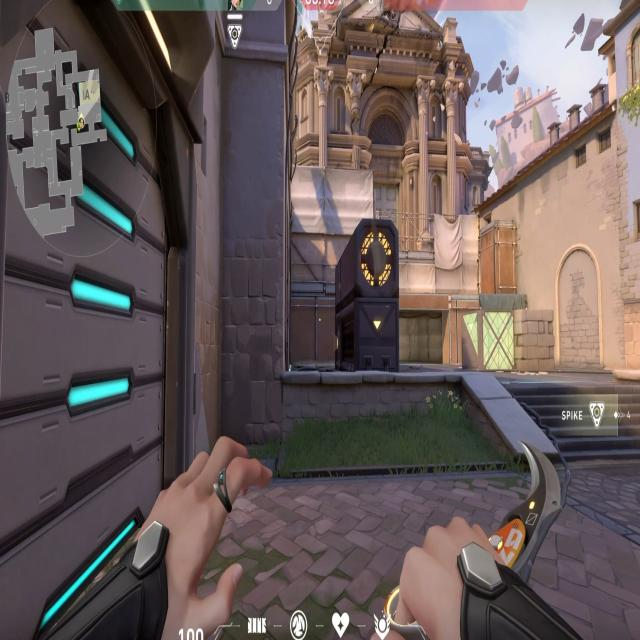A_Door: (0, 0, 196, 635)
A_Heaven_Box: (471, 215, 521, 295)
A_Heaven_Wall: (298, 149, 391, 288)
A_Hell: (399, 297, 463, 370)
A_Site_Box: (461, 307, 558, 377)
